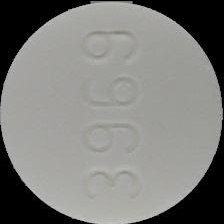10544-562: (0, 0, 224, 224)
